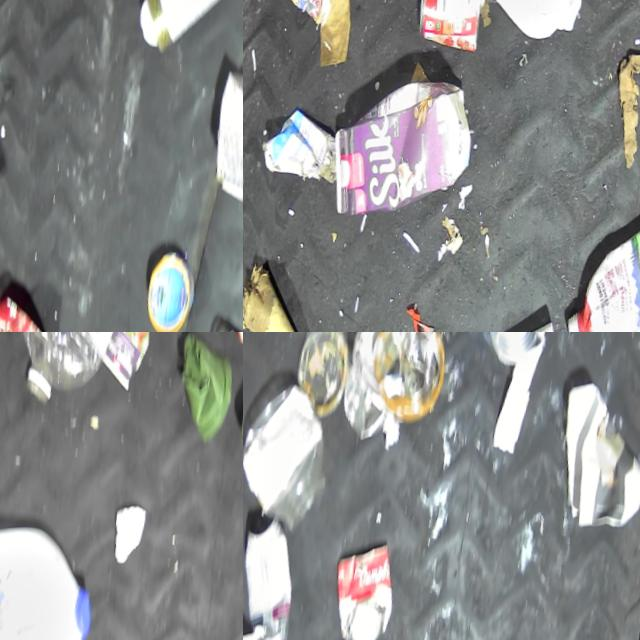can: (319, 534, 400, 640), (243, 506, 303, 640), (128, 0, 243, 69), (136, 245, 199, 332), (410, 0, 489, 56), (477, 332, 547, 373), (271, 0, 351, 29)
milk_jug: (0, 517, 105, 640), (462, 0, 593, 47)
non_white_jug: (321, 64, 480, 232), (556, 204, 640, 332)
plastic_bottle: (3, 332, 138, 419)
